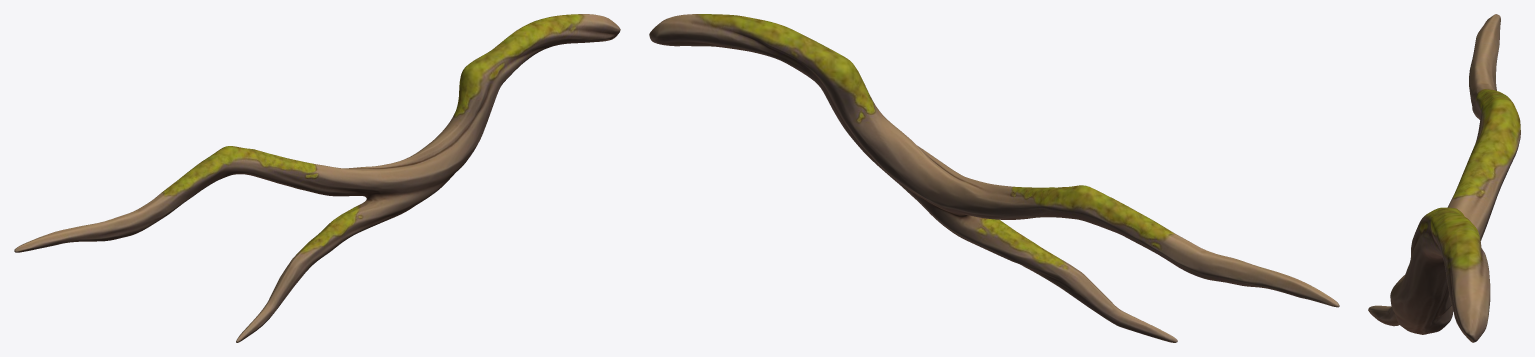
The model's file is sky_root_02a.glb.
The picture shows the model from 3 angles, left to right: view 1: azimuth 30°, elevation 25°; view 2: azimuth 150°, elevation 25°; view 3: azimuth 270°, elevation 25°; orthographic projection. The views are drawn at different scales.
Visible parts, largest first — view 1: root_02a; view 2: root_02a; view 3: root_02a.
Part boxes in pixels (x1=…): root_02a: x1=14, y1=14, x2=620, y2=342; root_02a: x1=649, y1=14, x2=1339, y2=342; root_02a: x1=1368, y1=14, x2=1520, y2=342.
Bounding box in the file's own units: 11.32 × 3.94 × 1.65.
1 material, 1 textured.
